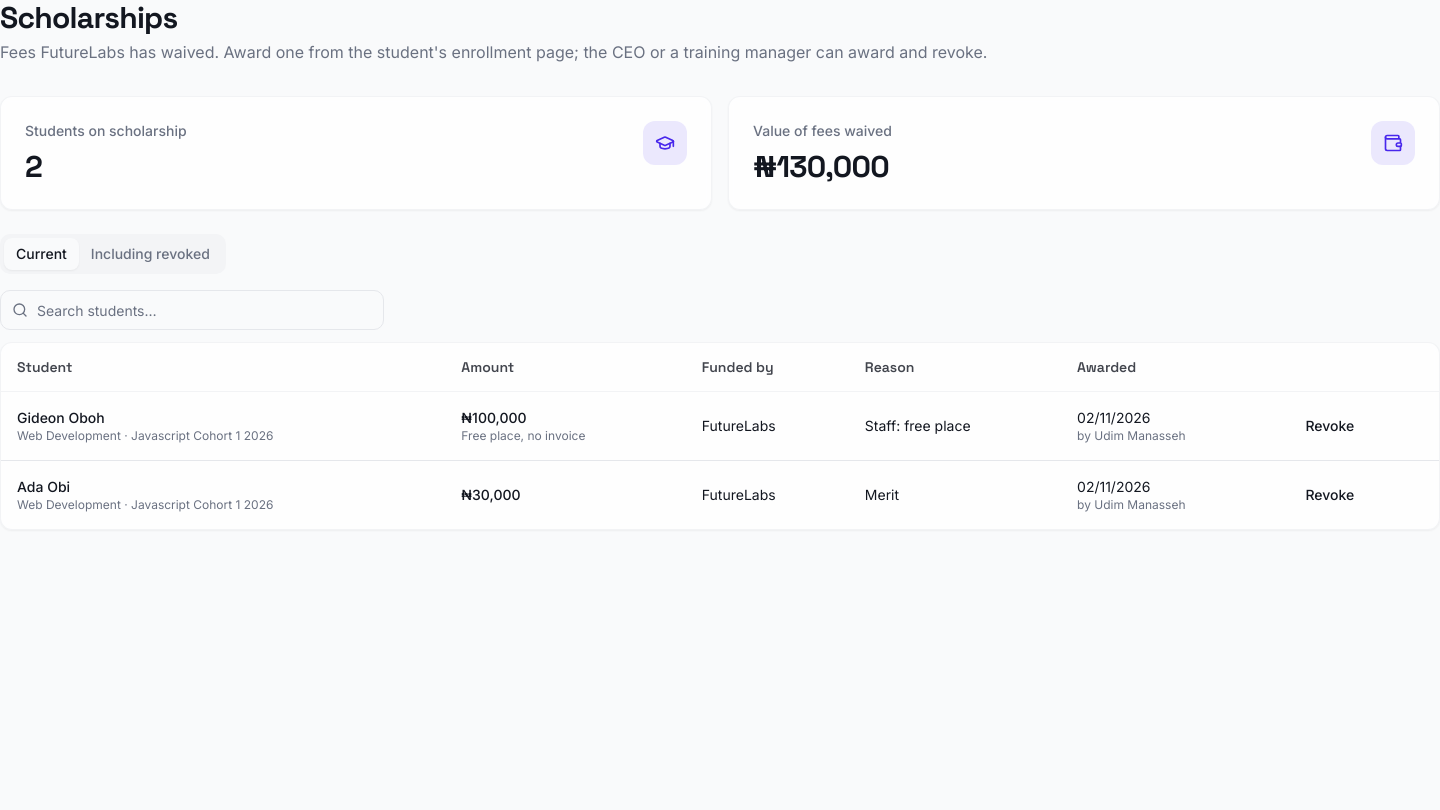
Test: ScholarshipsPage › needs a reason to revoke
Later steps or results of the test are not shown.
Click the button "Revoke" in the row of "Ada Obi": (1330, 494) x1=1294 y1=476 x2=1366 y2=512
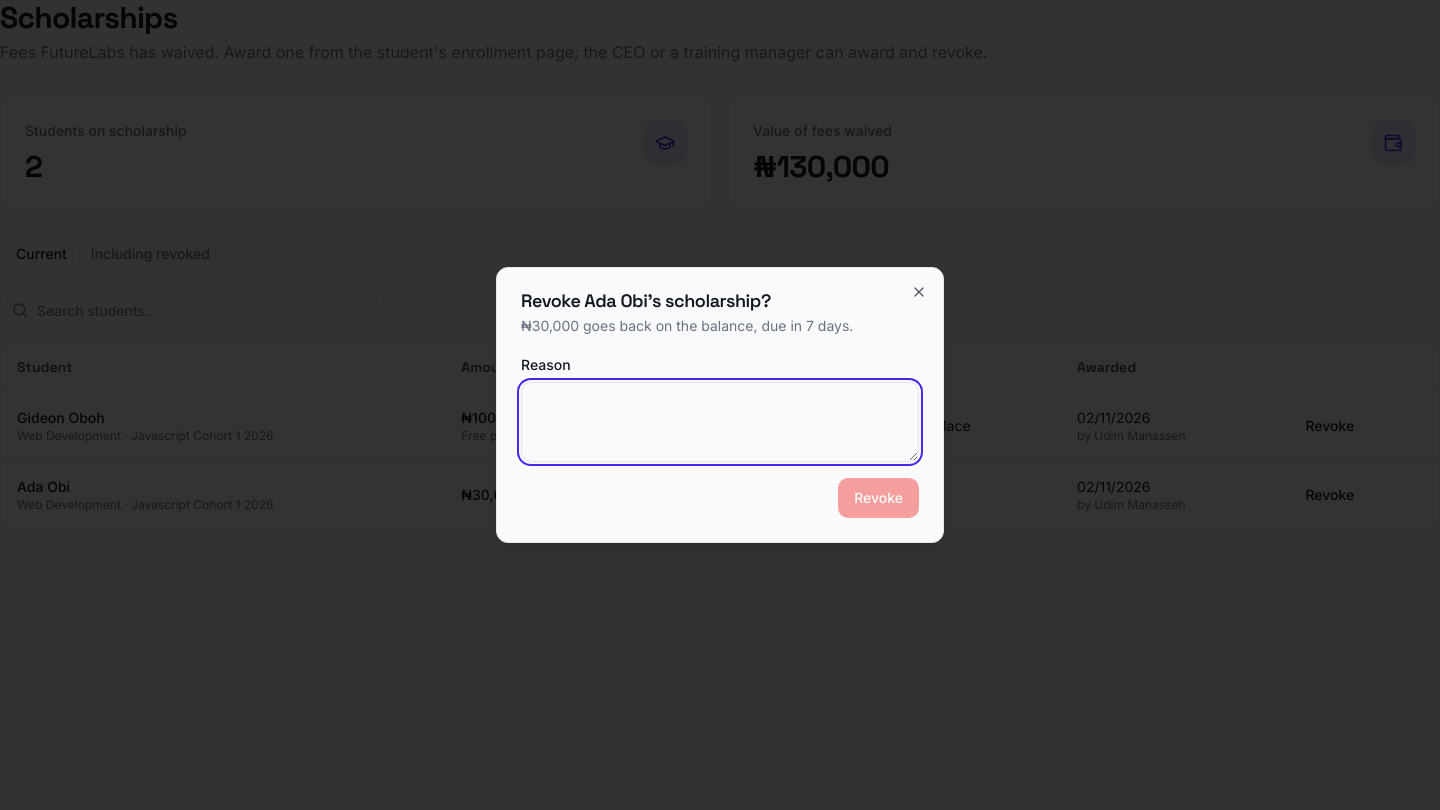
Expected: the button "Revoke" is disabled, x1=838 y1=478 x2=919 y2=518
